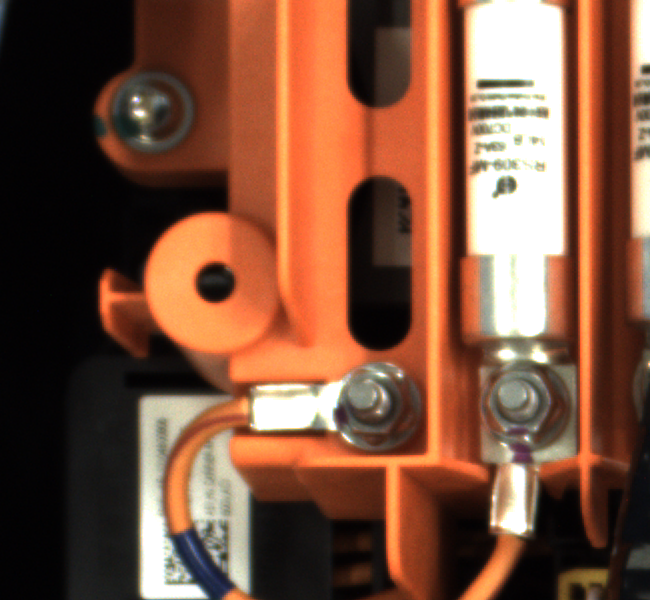screw_m: (103, 66, 213, 162)
screw_s: (466, 367, 585, 475), (315, 354, 428, 459)
